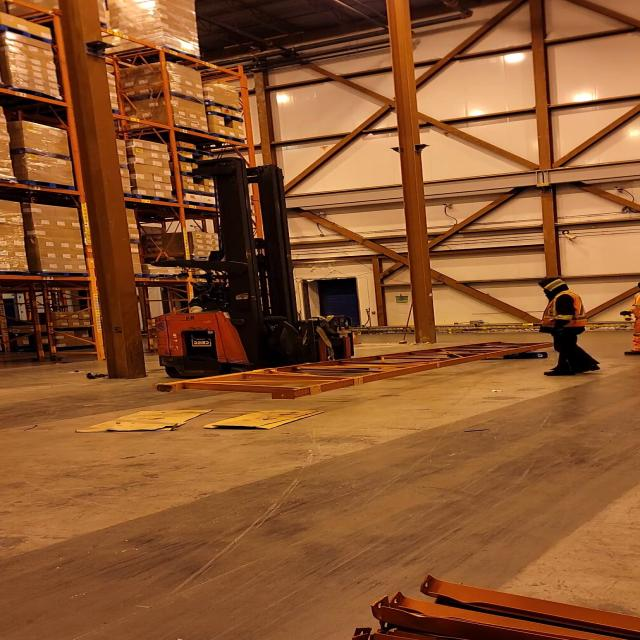forklift: (150, 163, 356, 382)
human: (536, 277, 605, 378), (165, 276, 267, 334), (621, 277, 640, 358)
objectofinterest: (152, 336, 561, 398), (70, 404, 214, 434), (196, 408, 333, 432), (500, 348, 550, 363)
